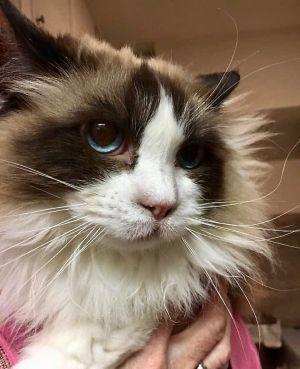ragdoll: (1, 1, 249, 264)
